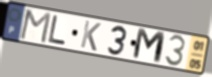3: (163, 34, 187, 69), (106, 25, 129, 57)
K: (79, 19, 103, 54)
L: (47, 14, 68, 46)
M: (131, 27, 168, 66), (18, 9, 53, 46)
